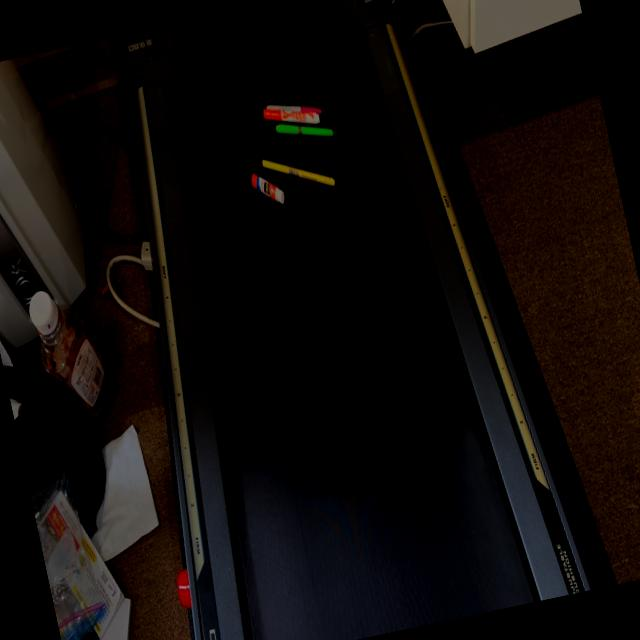Trash: (224, 81, 351, 224)
